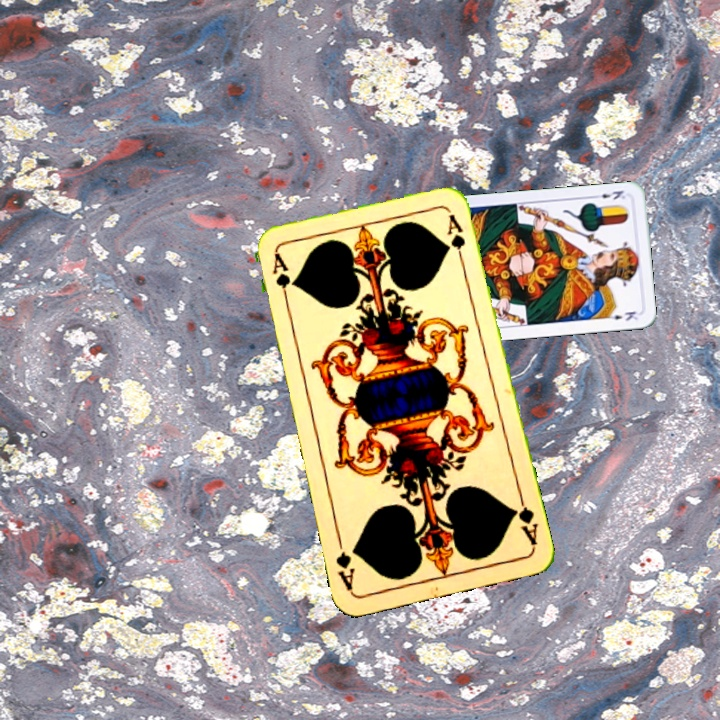EK: (589, 186, 628, 202)
GA: (508, 490, 540, 549), (268, 250, 292, 309)
